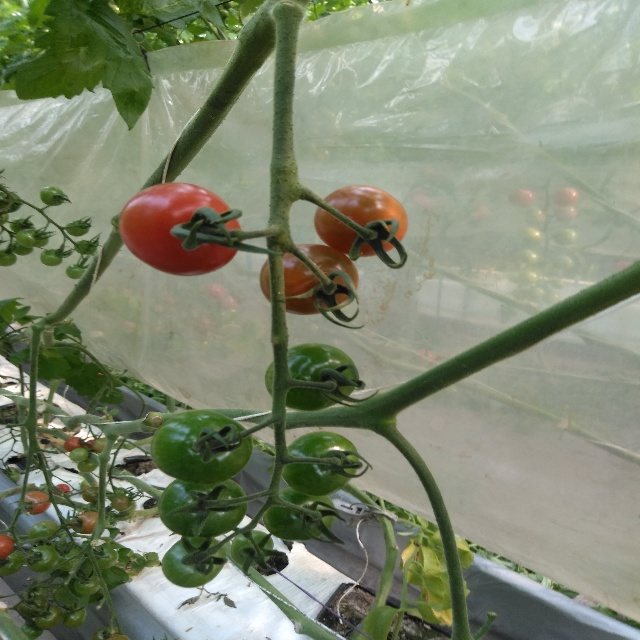l_fully_ripened: (118, 182, 241, 277), (0, 534, 14, 559), (64, 436, 85, 451)
l_green: (149, 410, 254, 485), (262, 344, 360, 413), (157, 478, 248, 539), (279, 430, 359, 496), (262, 487, 336, 542), (160, 537, 226, 589), (229, 530, 274, 567), (24, 545, 60, 573), (28, 520, 60, 543), (35, 605, 63, 630), (0, 550, 25, 576), (93, 545, 119, 568), (62, 605, 87, 628), (75, 574, 101, 595), (15, 229, 43, 248), (39, 186, 65, 206), (65, 219, 90, 237), (9, 217, 35, 233), (40, 249, 63, 266), (74, 239, 98, 255), (111, 495, 133, 511), (0, 248, 17, 267), (69, 447, 89, 462), (65, 265, 86, 279)
l_half_ripened: (259, 244, 359, 315), (313, 185, 408, 257), (18, 491, 51, 515), (71, 511, 99, 534), (81, 487, 98, 503)
